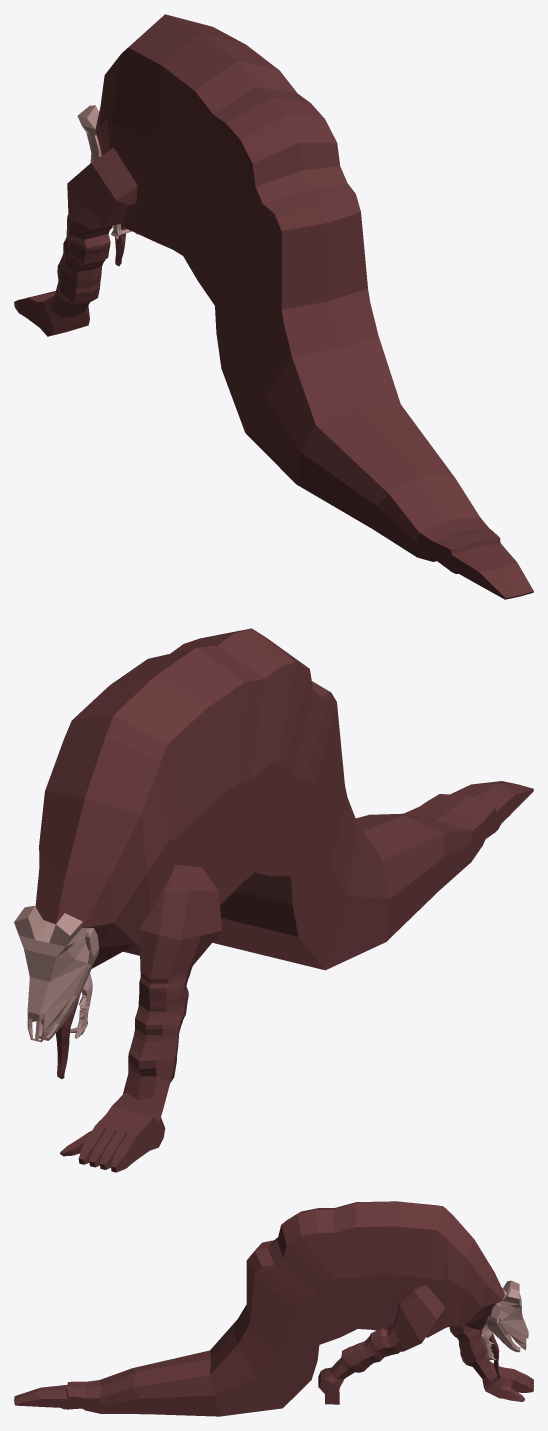
Rendered from Abhorwretch.fbx.
3 views of the same model, one above another, from view 1: azimuth 30°, elevation 25°; view 2: azimuth 150°, elevation 25°; view 3: azimuth 270°, elevation 25° (orthographic). The views are drawn at different scales.
Parts seen in each view (by area): view 1: Body, LArm; view 2: Body, LArm, Skull, Jaw1; view 3: Body, RArm, LArm, Skull, Jaw1, Jaw2.
Part boxes in pixels (x1,y1,x2,y2): Body: [95, 14, 533, 599]; LArm: [14, 147, 137, 336]; Body: [35, 628, 533, 1078]; LArm: [60, 865, 222, 1172]; Skull: [14, 905, 89, 1042]; Jaw1: [35, 927, 99, 1040]; Body: [14, 1201, 504, 1416]; RArm: [318, 1284, 445, 1404]; LArm: [449, 1324, 533, 1401]; Skull: [498, 1280, 528, 1350]; Jaw1: [487, 1303, 520, 1352]; Jaw2: [482, 1316, 496, 1360].
Size of the model in its own units: 95.09 by 197 by 451.
